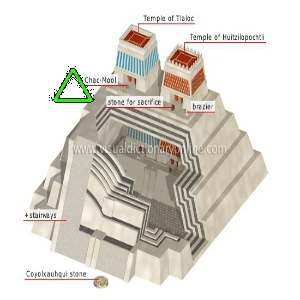triangle: (47, 65, 97, 106)
